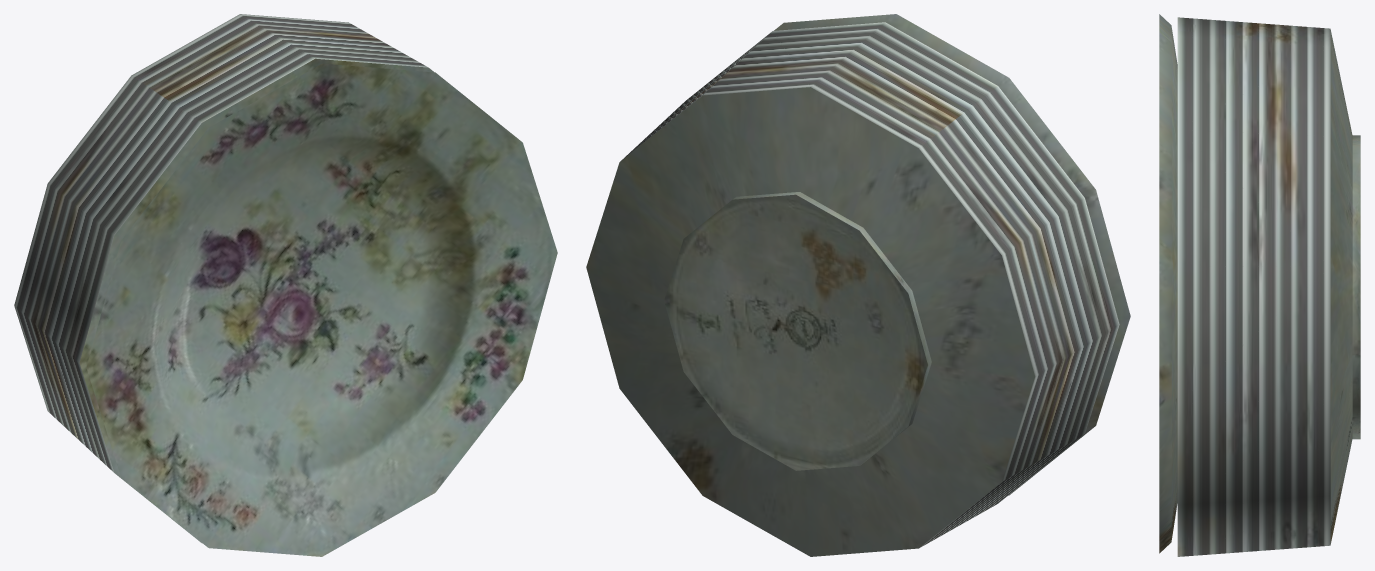
The model's file is prop_diningplate_roundstack.glb.
3 renders of one model, left to right at view 1: azimuth 30°, elevation 25°; view 2: azimuth 150°, elevation 25°; view 3: azimuth 270°, elevation 25°, orthographic. The views are drawn at different scales.
Size of the model in its own units: 13.4 by 13.4 by 4.85.
1 material, 1 textured.
